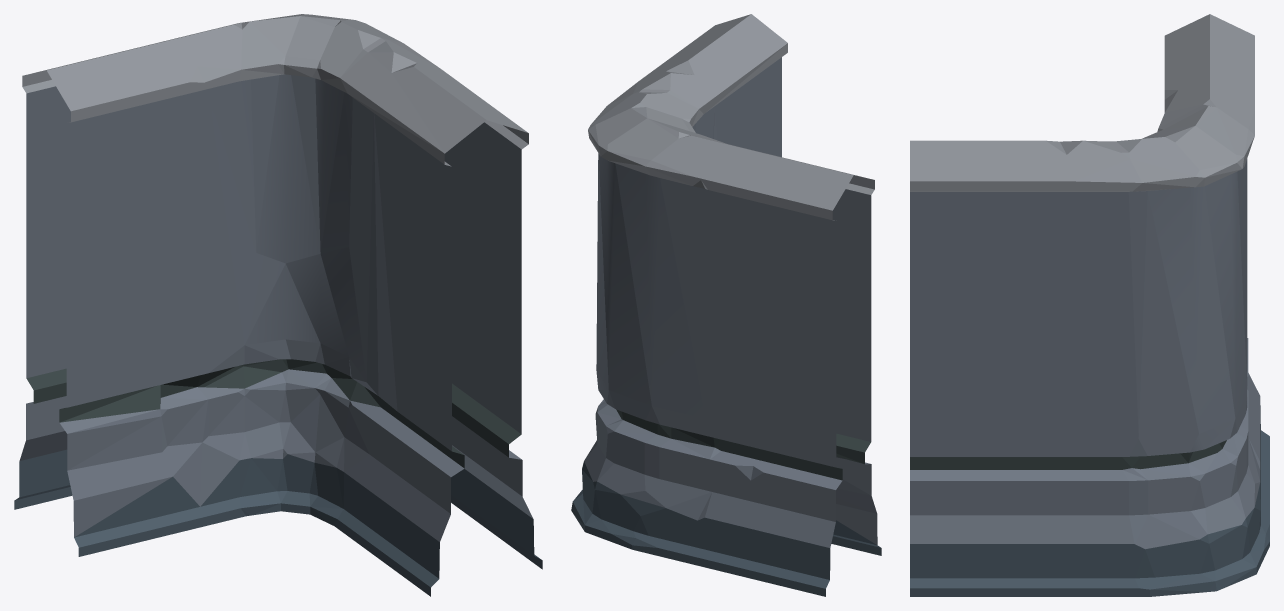
File: SoftCorner2.fbx
The picture shows the model from 3 angles, left to right: view 1: azimuth 30°, elevation 25°; view 2: azimuth 150°, elevation 25°; view 3: azimuth 270°, elevation 25°; orthographic projection. The views are drawn at different scales.
Visible parts, largest first — view 1: SoftCorner2; view 2: SoftCorner2; view 3: SoftCorner2.
Part boxes in pixels (left/top/right/bottom): SoftCorner2: left=14, top=14, right=542, bottom=596; SoftCorner2: left=571, top=14, right=881, bottom=596; SoftCorner2: left=910, top=14, right=1269, bottom=596.
Size of the model in its own units: 360 by 476 by 360.
